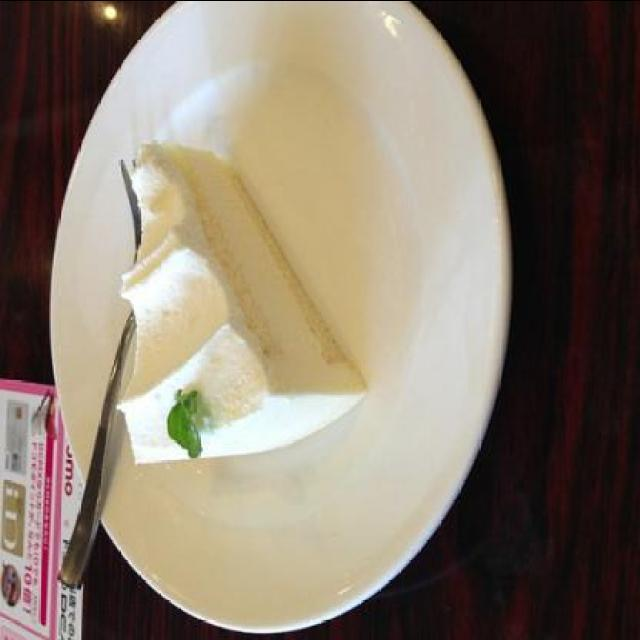Rare cheese cake: (102, 100, 404, 528)
